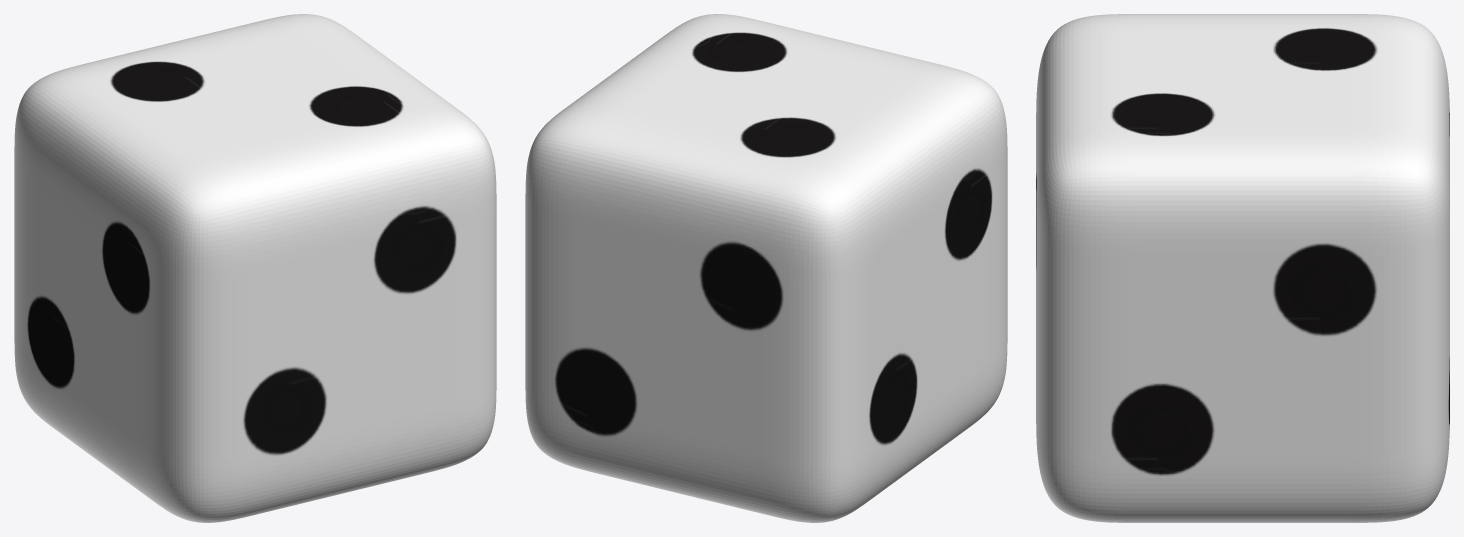
The model's file is Dice2.glb.
3 views of the same model, side by side, from view 1: azimuth 30°, elevation 25°; view 2: azimuth 150°, elevation 25°; view 3: azimuth 270°, elevation 25° (orthographic). The views are drawn at different scales.
Parts seen in each view (by area): view 1: Dice_20Ready; view 2: Dice_20Ready; view 3: Dice_20Ready.
Boxes of the visible parts, x1,y1,x2,y2 form: Dice_20Ready: (14,14,496,522); Dice_20Ready: (525,14,1007,522); Dice_20Ready: (1036,14,1449,522).
Size of the model in its own units: 1 by 1 by 1.
1 material, 1 textured.
